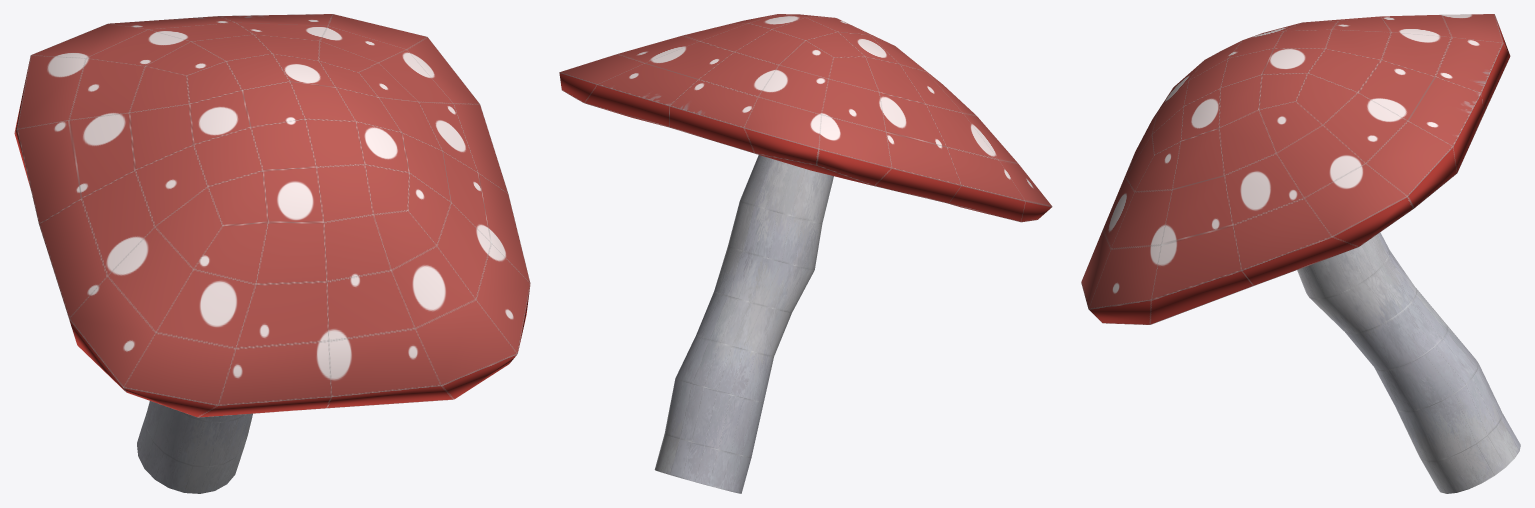
Rendered from MushroomAlternative1.fbx.
3 views of the same model, side by side, from view 1: azimuth 30°, elevation 25°; view 2: azimuth 150°, elevation 25°; view 3: azimuth 270°, elevation 25° (orthographic). The views are drawn at different scales.
Parts seen in each view (by area): view 1: pCylinder14; view 2: pCylinder14; view 3: pCylinder14.
Part boxes in pixels (x1=…): pCylinder14: x1=14, y1=14, x2=530, y2=493; pCylinder14: x1=559, y1=14, x2=1052, y2=493; pCylinder14: x1=1081, y1=14, x2=1520, y2=493.
Bounding box in the file's own units: 0.5081 × 0.5107 × 0.4649.
Materials: 1 (1 with a texture image).
